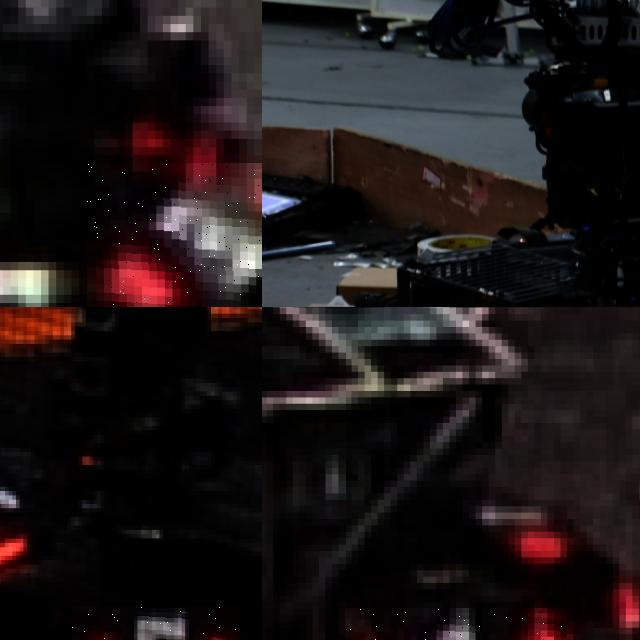R1: (345, 608, 567, 640)
R3: (87, 163, 262, 307)
R5: (71, 605, 240, 640), (0, 456, 29, 586)
